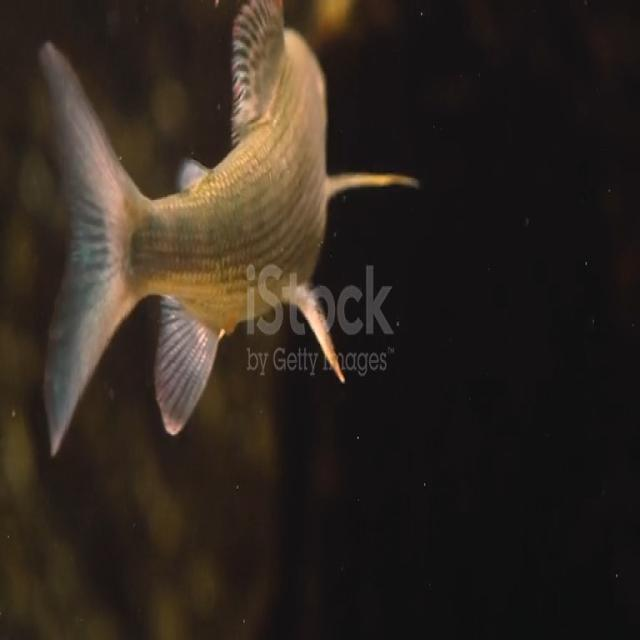fish: (34, 5, 424, 455)
